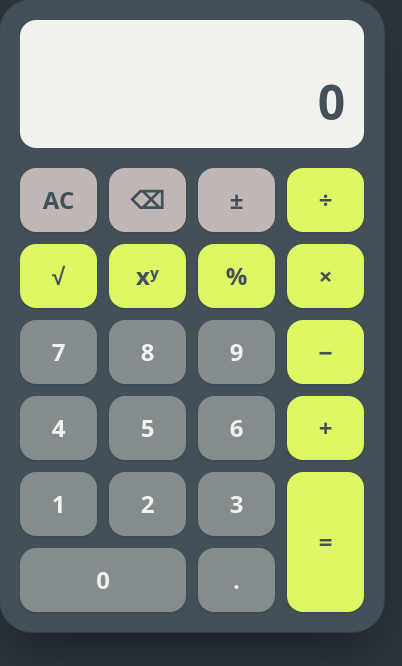
Test case: Calculator › adds with the keypad, through the API, and shows the full expression
What coordinates should you click on to do the following:
click the button "2"
I would click on:
 (148, 504)
Its box is [109,472,186,536].
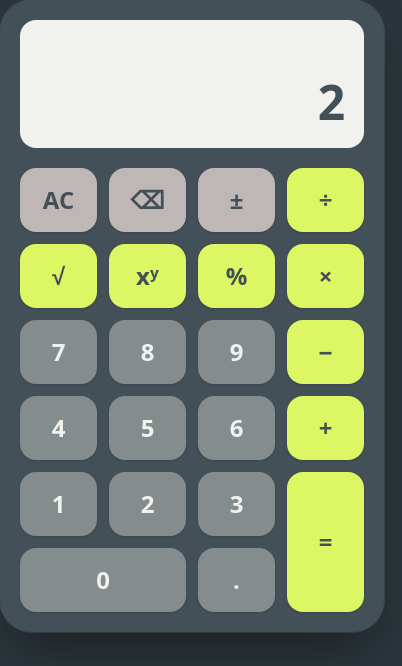
What coordinates should you click on to do the following:
click the button named "Add"
I would click on:
 (326, 428)
Its box is [287,396,364,460].
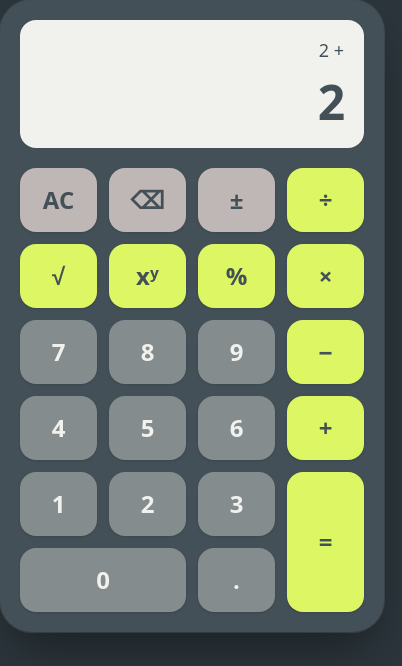
What coordinates should you click on to do the following:
click the button "3"
I would click on:
 (236, 504)
Its box is [198,472,275,536].
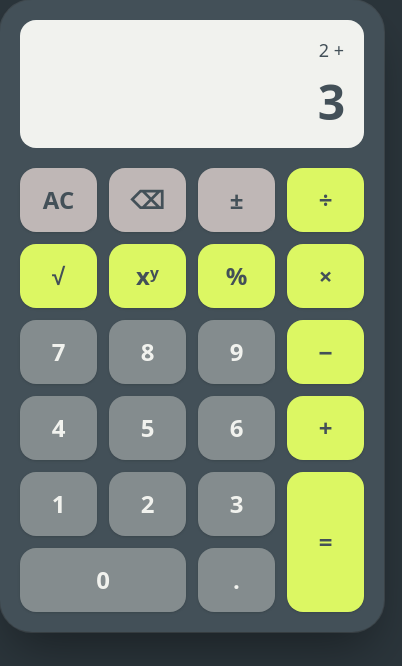
What coordinates should you click on to do the following:
click the button named "Equals"
I would click on:
 (326, 542)
Its box is [287,472,364,612].
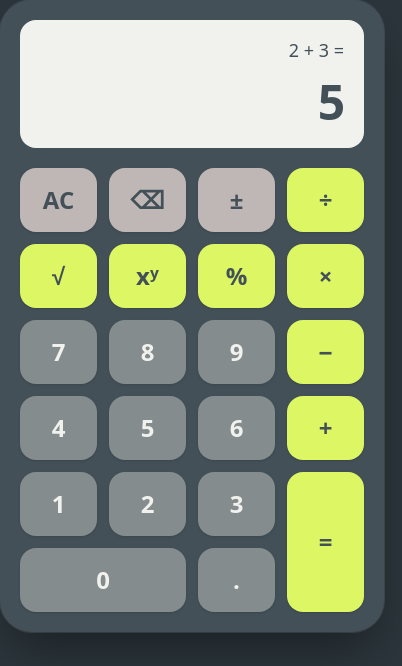
Now the text "5" is shown, box [318,69,344,134]
Now the text "2 + 3 =" is shown, box [289,36,344,64]
